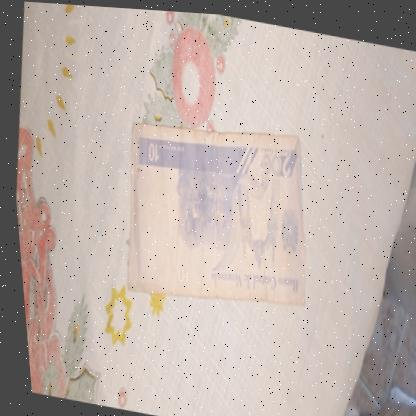vef_back: (109, 101, 323, 320)
